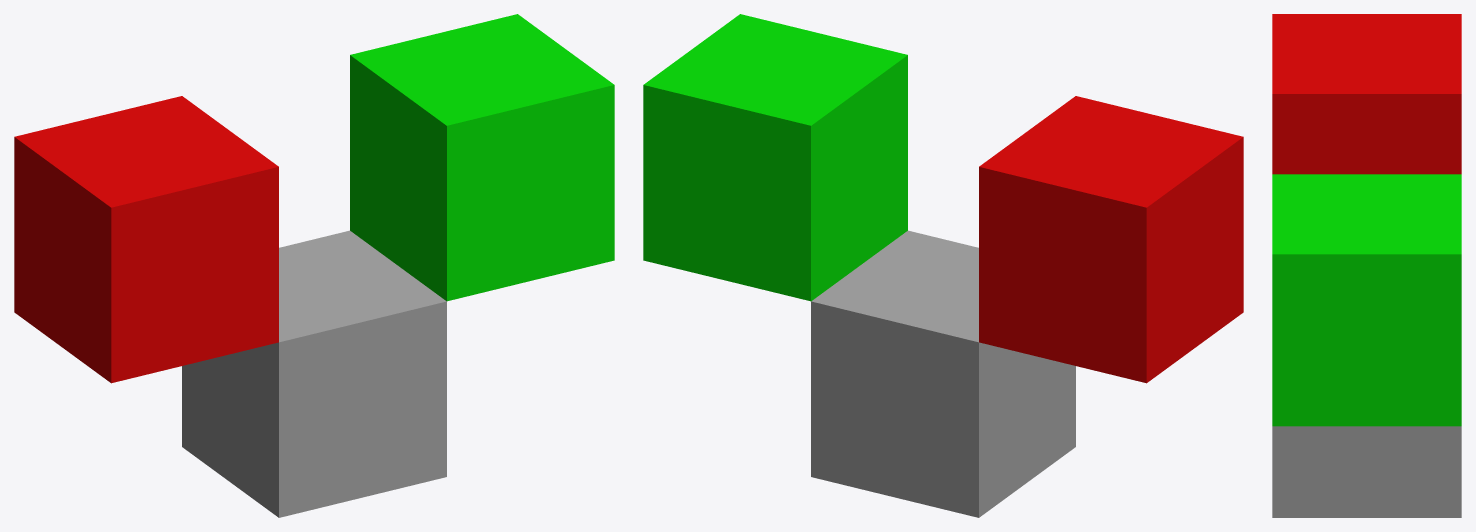
File: synthetic_unicode_error_identity_7700_binary.fbx
The picture shows the model from 3 angles, left to right: view 1: azimuth 30°, elevation 25°; view 2: azimuth 150°, elevation 25°; view 3: azimuth 270°, elevation 25°; orthographic projection. The views are drawn at different scales.
Visible parts, largest first — view 1: object 3, object 2, Parent; view 2: object 3, object 2, Parent; view 3: object 3, object 2, Parent.
Boxes of the visible parts, box(x1,y1,x2,y2) form: object 3: box(350, 14, 614, 301); object 2: box(14, 96, 278, 383); Parent: box(182, 230, 446, 517); object 3: box(643, 14, 907, 301); object 2: box(979, 96, 1243, 383); Parent: box(811, 230, 1075, 517); object 3: box(1272, 174, 1461, 426); object 2: box(1272, 14, 1461, 174); Parent: box(1272, 426, 1461, 517).
Size of the model in its own units: 0.03 by 0.02 by 0.01.
